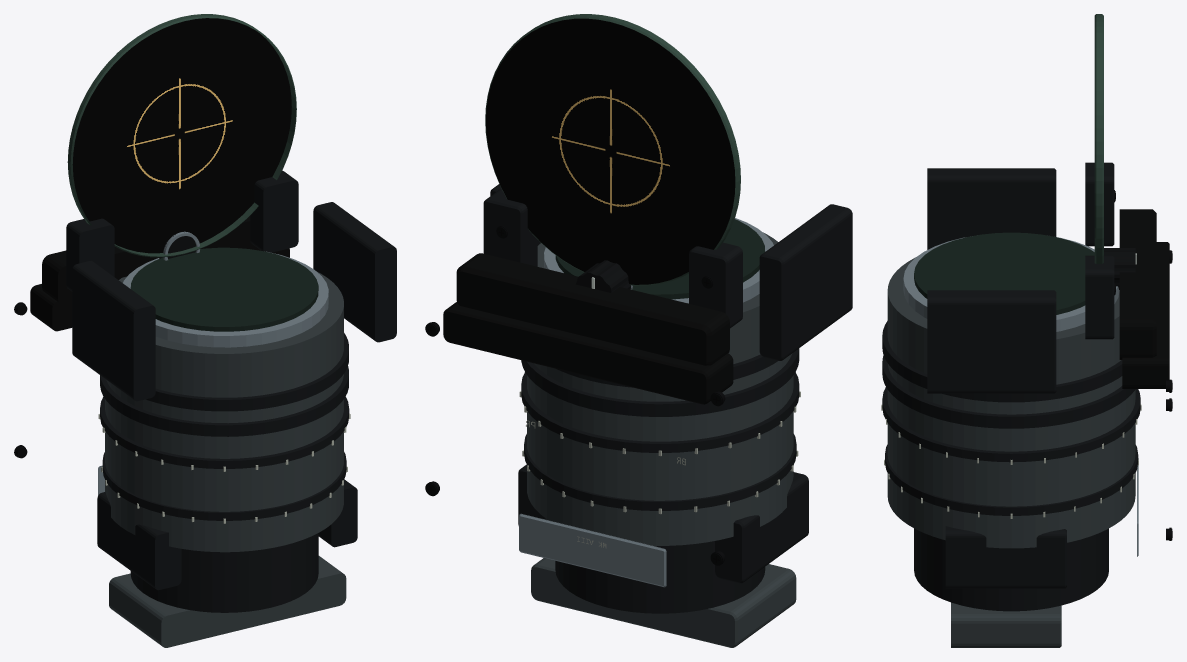
File: MFDStudio.obj
3 renders of one model, left to right at view 1: azimuth 30°, elevation 25°; view 2: azimuth 150°, elevation 25°; view 3: azimuth 270°, elevation 25°, orthographic. The views are drawn at different scales.
Parts seen in each view (by area): view 1: MFDStudioBody, MFDStudioScreen, MFDStudioCombinerFrame, MFDStudioKnob0; view 2: MFDStudioBody, MFDStudioScreen, MFDStudioCombinerFrame, MFDStudioKnob0, MFDStudioScrewsBase; view 3: MFDStudioBody, MFDStudioCombinerFrame, MFDStudioKnob0.
Part boxes in pixels (x1=…): MFDStudioBody: x1=30, y1=202, x2=396, y2=647; MFDStudioScreen: x1=72, y1=18, x2=291, y2=253; MFDStudioCombinerFrame: x1=66, y1=14, x2=298, y2=291; MFDStudioKnob0: x1=158, y1=231, x2=199, y2=260; MFDStudioBody: x1=443, y1=184, x2=852, y2=647; MFDStudioScreen: x1=486, y1=18, x2=735, y2=284; MFDStudioCombinerFrame: x1=483, y1=14, x2=742, y2=328; MFDStudioKnob0: x1=576, y1=260, x2=632, y2=292; MFDStudioScrewsBase: x1=425, y1=322, x2=725, y2=565; MFDStudioBody: x1=881, y1=168, x2=1169, y2=647; MFDStudioCombinerFrame: x1=1085, y1=14, x2=1114, y2=339; MFDStudioKnob0: x1=1104, y1=248, x2=1136, y2=289.
Bounding box in the file's own units: 0.1211 × 0.2414 × 0.1104.
12 materials, 1 textured.
